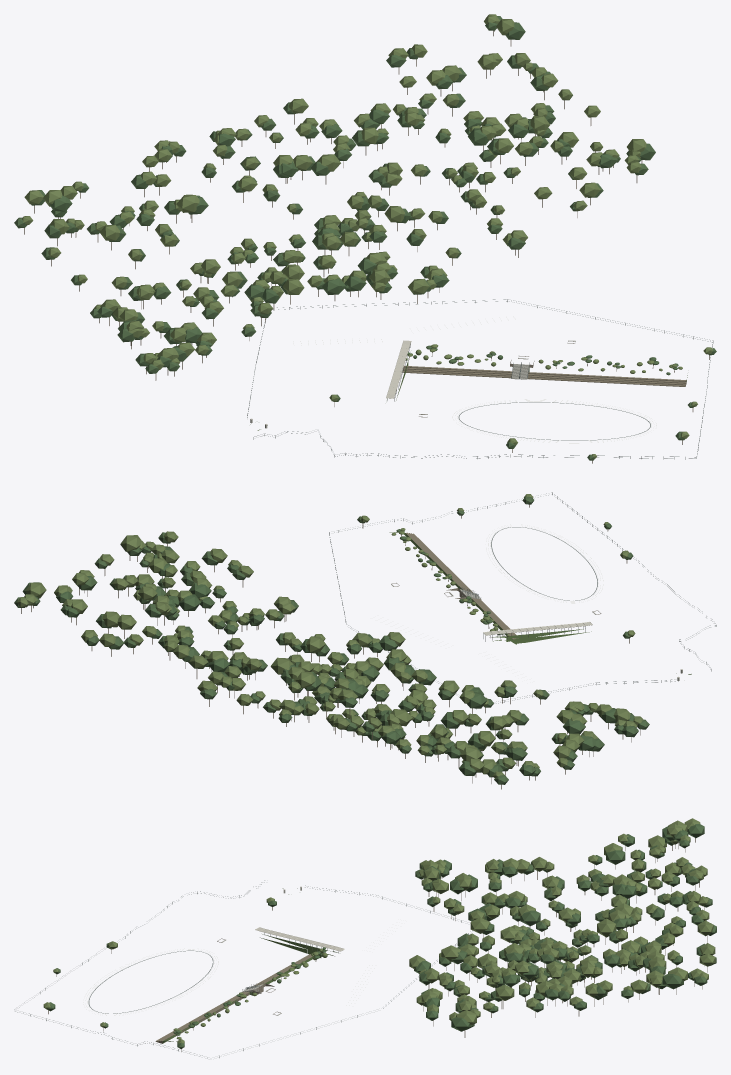
3 renders of one model, top to bottom at view 1: azimuth 30°, elevation 25°; view 2: azimuth 150°, elevation 25°; view 3: azimuth 270°, elevation 25°, orthographic. The views are drawn at different scales.
Visible parts, largest first — view 1: planting_mixed-trees, facility_stand-tiered, facility_boundary-fence; view 2: planting_mixed-trees, facility_terrain-contour-join, facility_stand-tiered, facility_open-covered-walk, facility_boundary-fence; view 3: planting_mixed-trees, facility_terrain-contour-join, facility_stand-tiered, facility_open-covered-walk, planting_low-shrubs.
Part boxes in pixels (bbox=[...]): planting_mixed-trees: bbox=[14, 14, 716, 463]; facility_stand-tiered: bbox=[402, 365, 686, 386]; facility_boundary-fence: bbox=[247, 299, 713, 459]; planting_mixed-trees: bbox=[14, 494, 649, 789]; facility_terrain-contour-join: bbox=[389, 532, 691, 674]; facility_stand-tiered: bbox=[405, 532, 518, 639]; facility_open-covered-walk: bbox=[483, 621, 592, 641]; facility_boundary-fence: bbox=[329, 492, 716, 709]; planting_mixed-trees: bbox=[43, 818, 716, 1051]; facility_terrain-contour-join: bbox=[162, 888, 337, 1043]; facility_stand-tiered: bbox=[155, 951, 320, 1043]; facility_open-covered-walk: bbox=[255, 927, 344, 953]; planting_low-shrubs: bbox=[176, 951, 327, 1039].
Size of the model in its own units: 221 by 56.14 by 280.
Materials: 10 (3 with a texture image).
